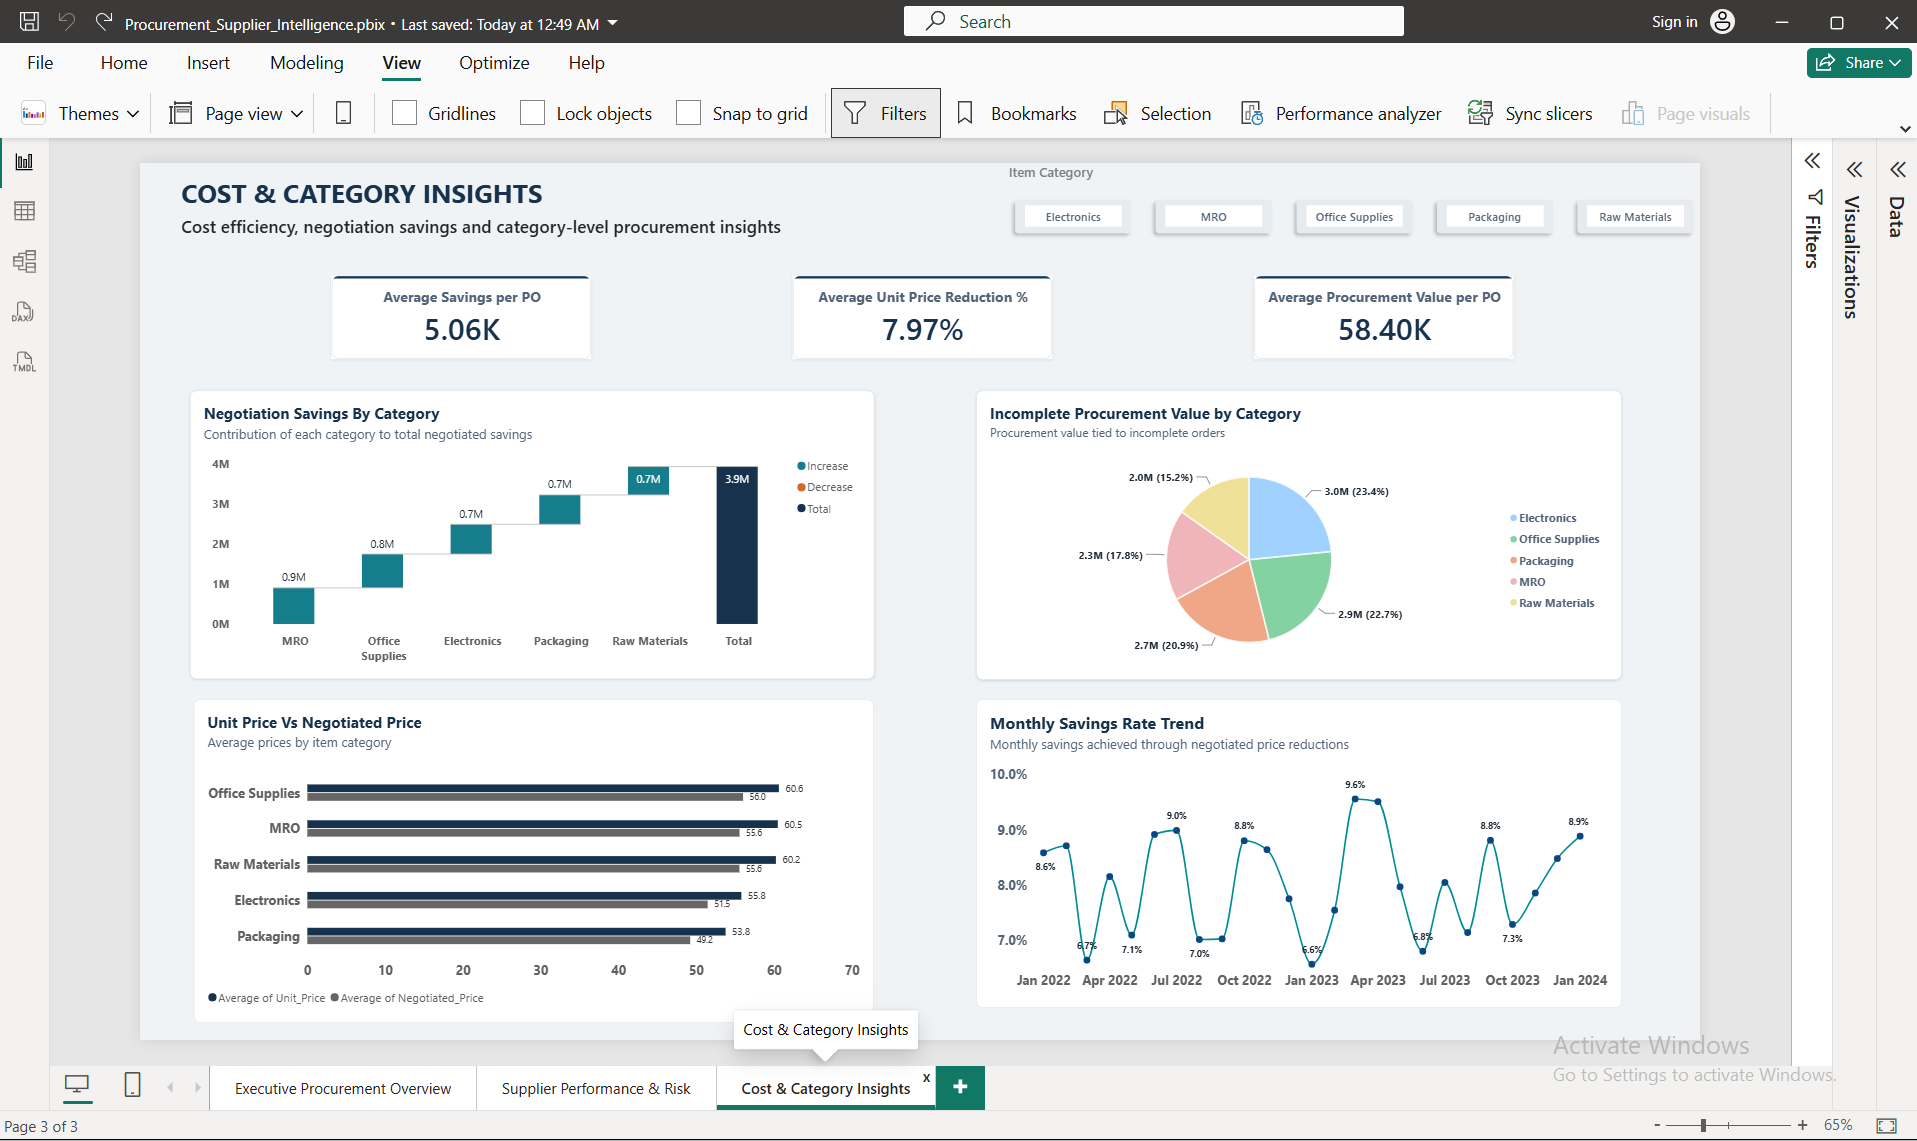

The page's visual inventory and layout, read from the dashboard file:
{"tool":"powerbi","page":{"name":"Cost & Category Insights","canvas":[1920,1080],"ordinal":2},"visuals":[{"type":"cardVisual","fields":{"Data":["Procurement.Average Savings per PO"]},"box":[235.2,138.9,320,103.3],"z":0},{"type":"cardVisual","fields":{"Data":["Procurement.Average Unit Price Reduction %"]},"box":[803.7,138.9,320,103.3],"z":1000},{"type":"cardVisual","fields":{"Data":["Procurement.Average Procurement Value per PO"]},"box":[1370.4,138.9,320,103.3],"z":2000},{"type":"waterfallChart","title":"Negotiation Savings By Category","fields":{"Category":["Procurement.Item_Category_Display"],"Y":["Procurement.Negotiation Savings Value"]},"box":[61.1,279.6,842.6,355.6],"z":3000},{"type":"pieChart","title":"Incomplete Procurement Value by Category","fields":{"Category":["Procurement.Item_Category_Display"],"Y":["Procurement.Incomplete Procurement Value"]},"box":[1029.6,279.6,794,356],"z":4000},{"type":"clusteredBarChart","title":"Unit Price Vs Negotiated Price","fields":{"Category":["Procurement.Item_Category_Display"],"Y":["Avg(Procurement.Unit_Price)","Avg(Procurement.Negotiated_Price)"]},"box":[66.7,659.3,837,398.1],"z":5000},{"type":"lineChart","title":"Monthly Savings Rate Trend","fields":{"Category":["Procurement.Month Start","Procurement.Order_Date.Variation.Date Hierarchy.Quarter","Procurement.Order_Date.Variation.Date Hierarchy.Month","Procurement.Order_Date.Variation.Date Hierarchy.Day"],"Y":["Procurement.Savings %"]},"box":[1029.6,659.3,794.4,379.6],"z":6000},{"type":"advancedSlicerVisual","fields":{"Values":["Procurement.Item_Category_Display"]},"box":[1068.5,0,852,95],"z":7000},{"type":"textbox","box":[50.6,15.7,450,47.1],"z":8000},{"type":"textbox","box":[50.6,62.8,753.5,40.1],"z":9000}]}

Visuals, with their boxes on the page's 1920x1080 design canvas (x1, y1, x2, y2). These are canvas units, not pixel positions in the 1917x1141 screenshot, which may show the page scaled, cropped or inside an application window:
cardVisual - Procurement.Average Savings per PO: bbox=(235, 139, 555, 242)
cardVisual - Procurement.Average Unit Price Reduction %: bbox=(804, 139, 1124, 242)
cardVisual - Procurement.Average Procurement Value per PO: bbox=(1370, 139, 1690, 242)
"Negotiation Savings By Category" waterfallChart: bbox=(61, 280, 904, 635)
"Incomplete Procurement Value by Category" pieChart: bbox=(1030, 280, 1824, 636)
"Unit Price Vs Negotiated Price" clusteredBarChart: bbox=(67, 659, 904, 1057)
"Monthly Savings Rate Trend" lineChart: bbox=(1030, 659, 1824, 1039)
advancedSlicerVisual - Procurement.Item_Category_Display: bbox=(1068, 0, 1920, 95)
textbox: bbox=(51, 16, 501, 63)
textbox: bbox=(51, 63, 804, 103)
